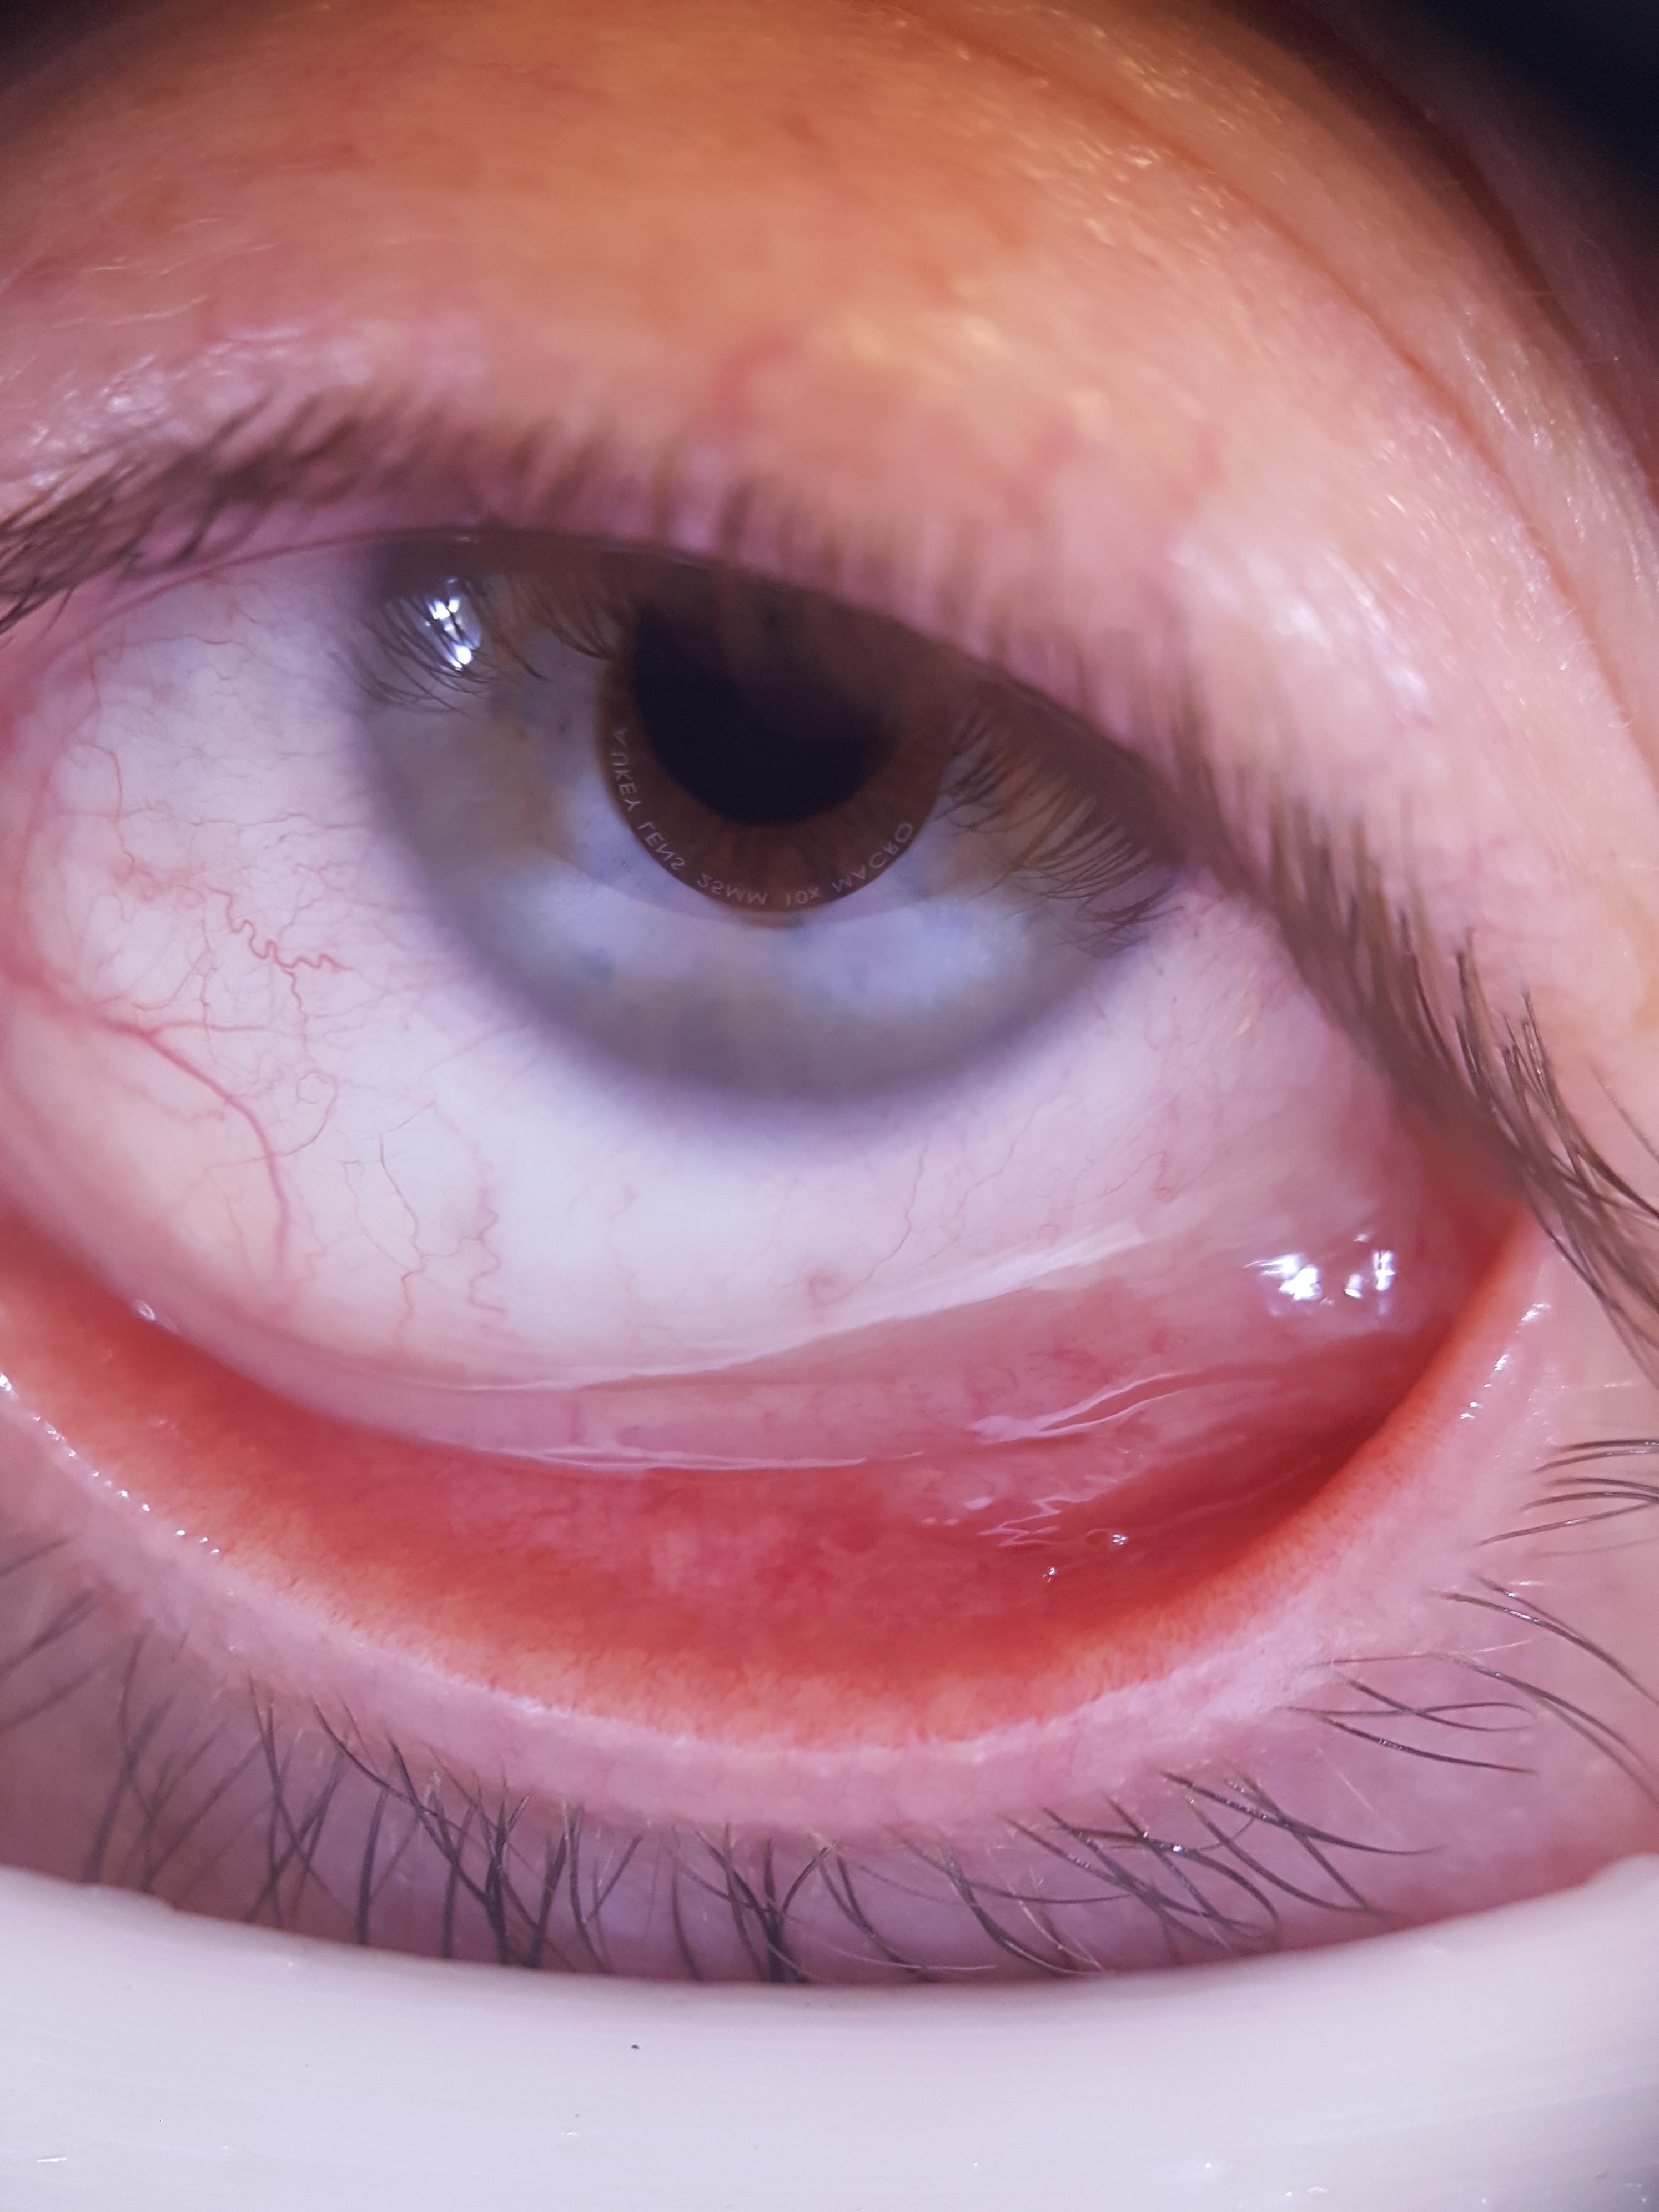forniceal: (0, 1104, 1432, 1461)
forniceal_palpebral: (0, 1080, 1520, 1716)
palpebral: (0, 1144, 1500, 1700)
